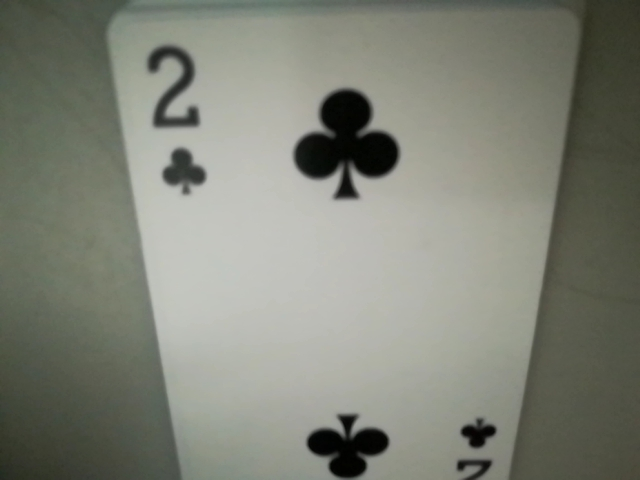mh 2: (127, 25, 215, 204)
